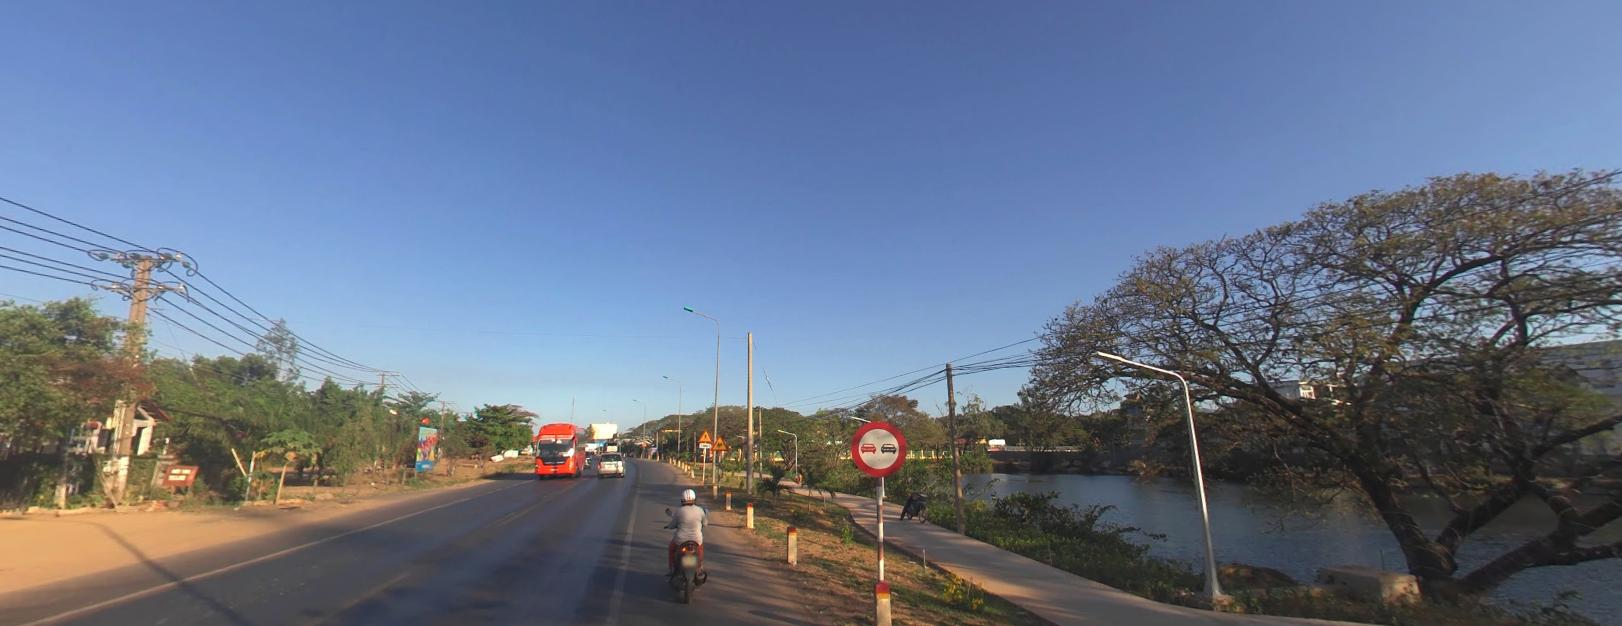Cam con lai: (852, 419, 904, 474)
Nguy hiem: (712, 434, 728, 449), (698, 428, 711, 440), (642, 440, 647, 444)
